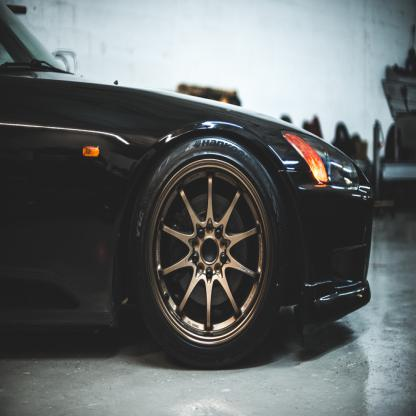Car: (0, 0, 374, 369)
